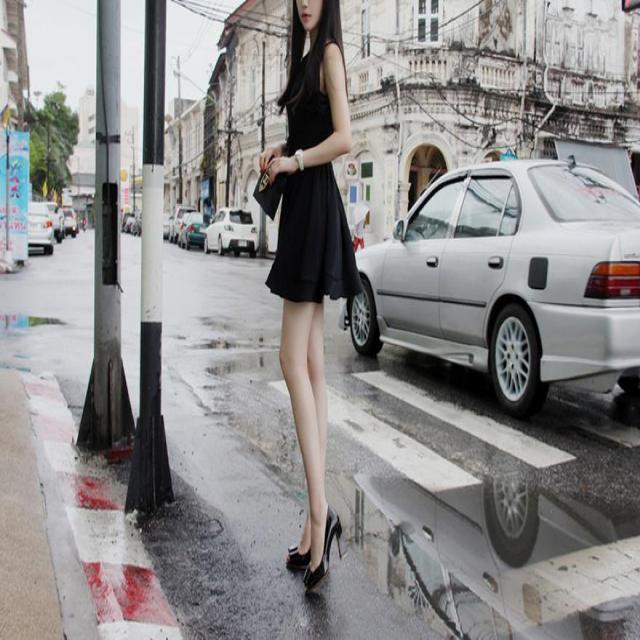short-sleeve-dress: (257, 25, 397, 384)
